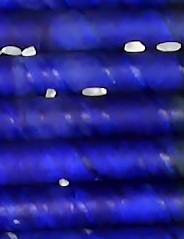broken_grain: (22, 43, 39, 58), (43, 87, 57, 100), (58, 177, 73, 189)
complete_grain: (122, 40, 148, 57), (154, 39, 181, 54), (81, 86, 108, 99), (1, 45, 23, 59)
